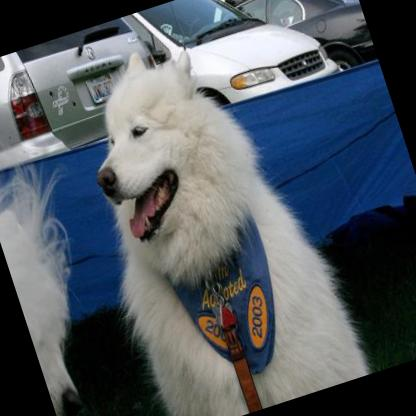Samoyed: (41, 7, 379, 416)
